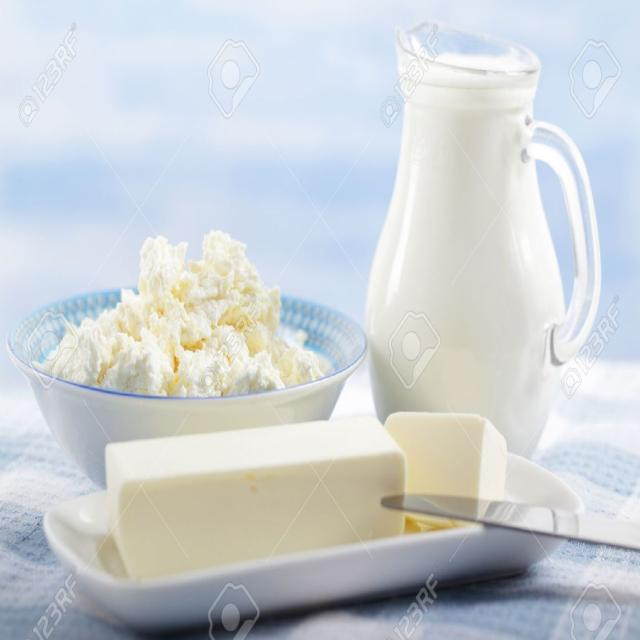Butter: (102, 418, 403, 575), (387, 408, 509, 538)
